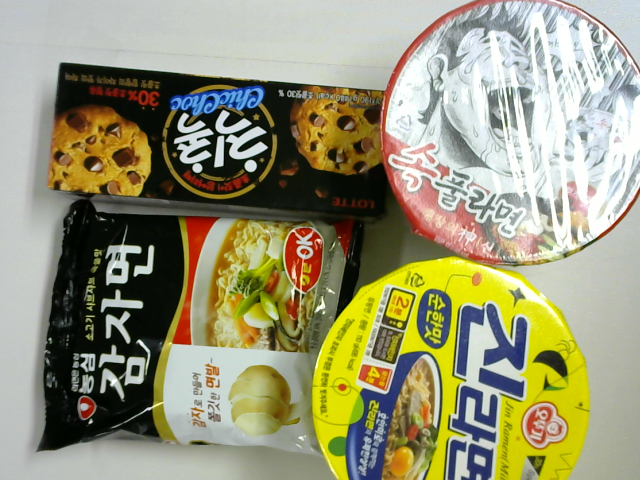Chicchok_Original_2400: (44, 62, 392, 220)
Hejangpul: (378, 1, 638, 267)
Jinlamyeon_Mild_Taste_Large_Cup: (312, 256, 594, 476)
Potato: (37, 198, 367, 458)
